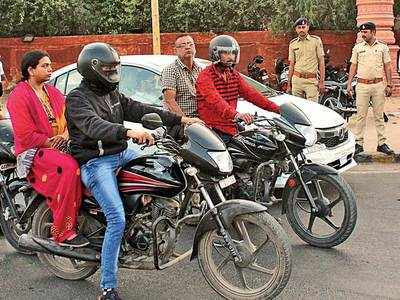helmet: (67, 38, 152, 132), (195, 32, 256, 91)
